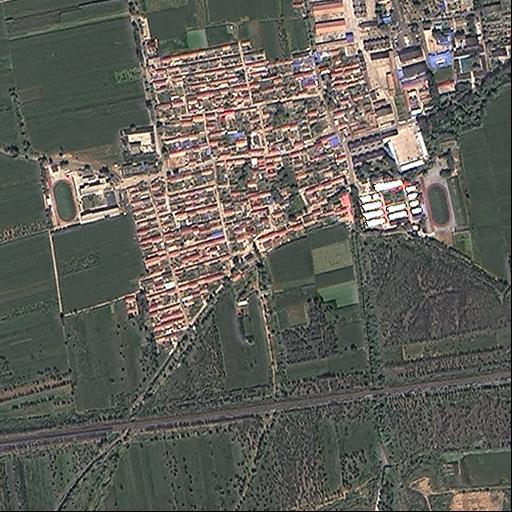school: (353, 167, 470, 237), (37, 151, 123, 231)
